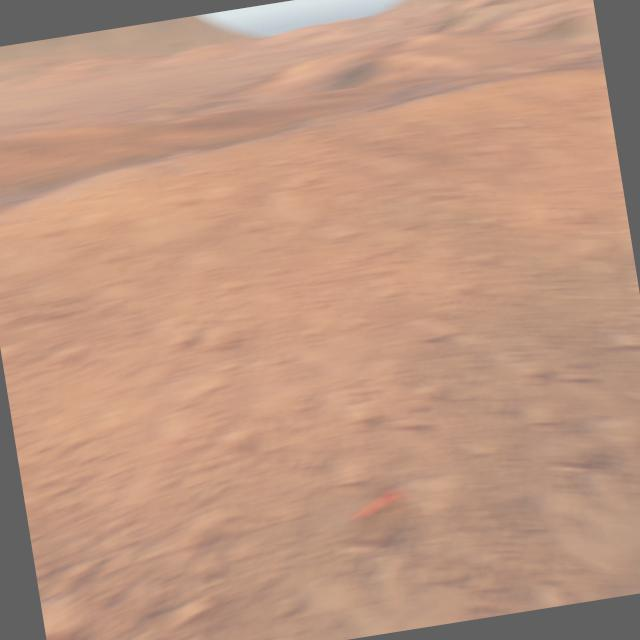newhammer: (351, 484, 405, 521)
